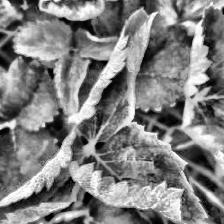Powdery Mildew Leaf: (67, 120, 210, 224), (67, 7, 159, 144), (0, 125, 86, 223), (183, 2, 224, 100), (179, 98, 224, 180), (192, 63, 224, 129), (39, 0, 104, 22)
